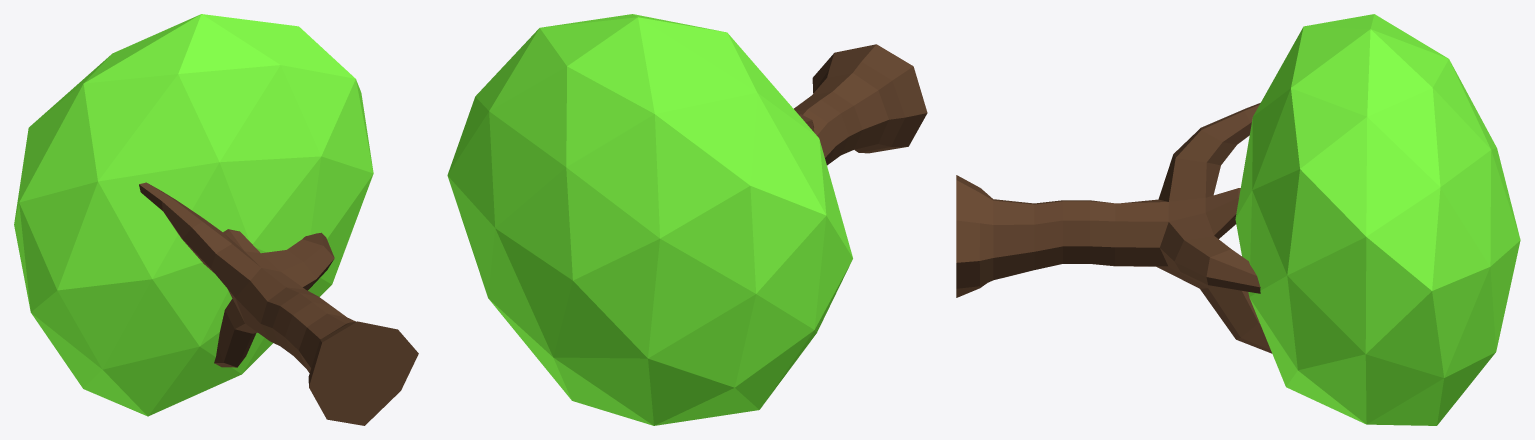
The model's file is OakTree_7.fbx.
3 views of the same model, side by side, from view 1: azimuth 30°, elevation 25°; view 2: azimuth 150°, elevation 25°; view 3: azimuth 270°, elevation 25° (orthographic). The views are drawn at different scales.
Visible parts, largest first — view 1: OakTree_7; view 2: OakTree_7; view 3: OakTree_7.
Boxes of the visible parts, left/top/right/bottom form: OakTree_7: left=14, top=14, right=418, bottom=425; OakTree_7: left=447, top=14, right=927, bottom=425; OakTree_7: left=956, top=14, right=1520, bottom=425.
Bounding box in the file's own units: 490 × 517 × 655.
